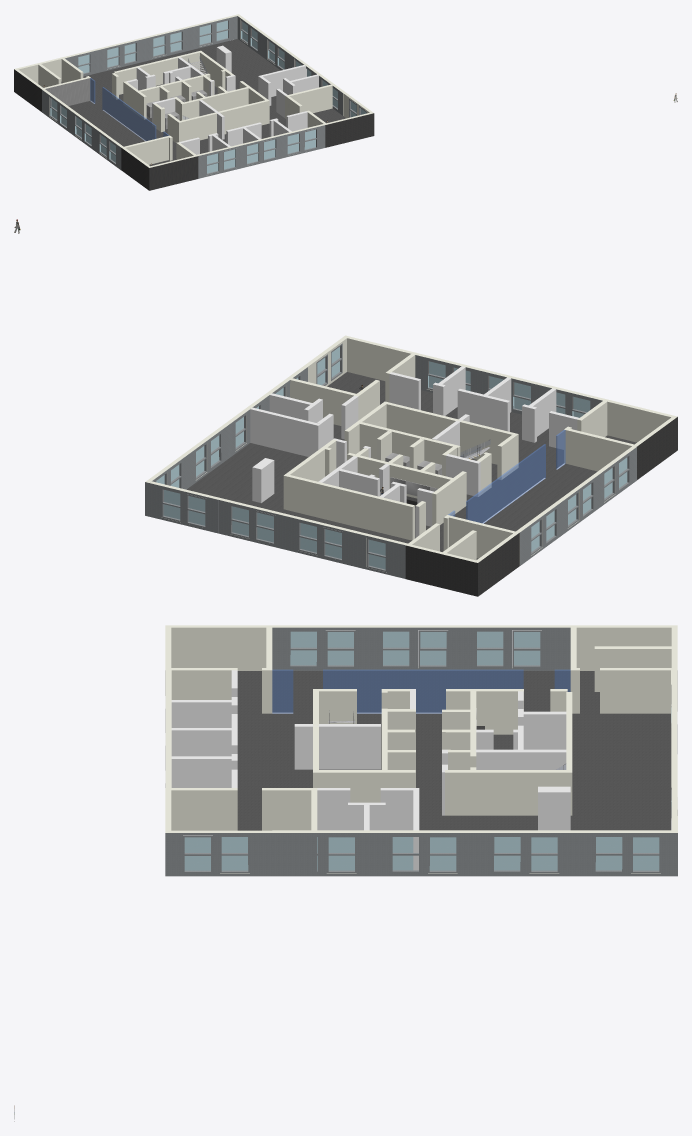
3 views of the same model, one above another, from view 1: azimuth 30°, elevation 25°; view 2: azimuth 150°, elevation 25°; view 3: azimuth 270°, elevation 25° (orthographic). The views are drawn at different scales.
Visible parts, largest first — view 1: e22, 房间, 房间#2, 组件#1, 内墙体#1, 内墙体#2, 内墙体#23, 内墙体#11, 内墙体#13, 内墙体#4, 电梯组, 内墙体#18 (+5 smaller); view 2: e22, 房间#2, 房间, 内墙体#11, 组件#1, 内墙体#1, 内墙体#2, 内墙体#18, 内墙体#6 (×3), 内墙体#4, 内墙体#23, 电梯组 (+5 smaller); view 3: e22, 组件#1, 房间, 内墙体#4, 房间#2, 内墙体#6 (×3), 内墙体#2, 内墙体#10, 电梯组, 内墙体#20 (×2), 内墙体#14, 内墙体#7 (+5 smaller).
Part boxes in pixels (x1,y1,x2,y2): e22: (61, 14, 374, 178); 房间: (121, 135, 198, 190); 房间#2: (14, 57, 90, 111); 组件#1: (42, 89, 123, 169); 内墙体#1: (177, 100, 269, 142); 内墙体#2: (112, 73, 179, 142); 内墙体#23: (162, 86, 250, 131); 内墙体#11: (113, 50, 201, 94); 内墙体#13: (139, 70, 225, 103); 内墙体#4: (200, 51, 267, 103); 电梯组: (159, 76, 227, 120); 内墙体#18: (258, 65, 306, 96); e22: (145, 335, 636, 578); 房间#2: (405, 515, 519, 596); 房间: (564, 399, 677, 479); 内墙体#11: (283, 474, 414, 540); 组件#1: (516, 446, 636, 565); 内墙体#1: (383, 401, 518, 468); 内墙体#2: (415, 434, 516, 537); 内墙体#18: (250, 407, 320, 456); 内墙体#6 (×3): (269, 366, 556, 436); 内墙体#4: (285, 402, 386, 481); 内墙体#23: (356, 421, 487, 464); 电梯组: (356, 431, 457, 507); e22: (165, 669, 677, 876); 组件#1: (272, 625, 570, 670); 房间: (165, 625, 272, 713); 内墙体#4: (317, 770, 568, 815); 房间#2: (570, 625, 677, 713); 内墙体#6 (×3): (171, 700, 231, 787); 内墙体#2: (318, 689, 567, 734); 内墙体#10: (294, 724, 380, 769); 电梯组: (387, 708, 484, 787); 内墙体#20 (×2): (317, 788, 413, 830); 内墙体#14: (476, 749, 566, 769); 内墙体#7: (576, 646, 671, 691).
Bounding box in the file's own units: 89.98 × 4.25 × 55.91.
43 materials, 8 textured.
